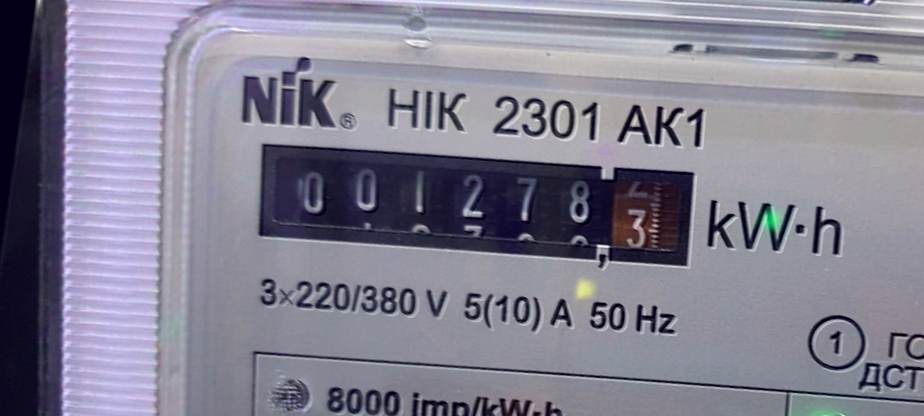0: (297, 167, 331, 218), (349, 166, 382, 215)
1: (408, 167, 432, 216)
2: (456, 172, 489, 222), (625, 179, 651, 201)
3: (619, 206, 652, 253)
7: (509, 175, 538, 224)
8: (565, 179, 595, 226)
screen: (234, 99, 718, 311)
